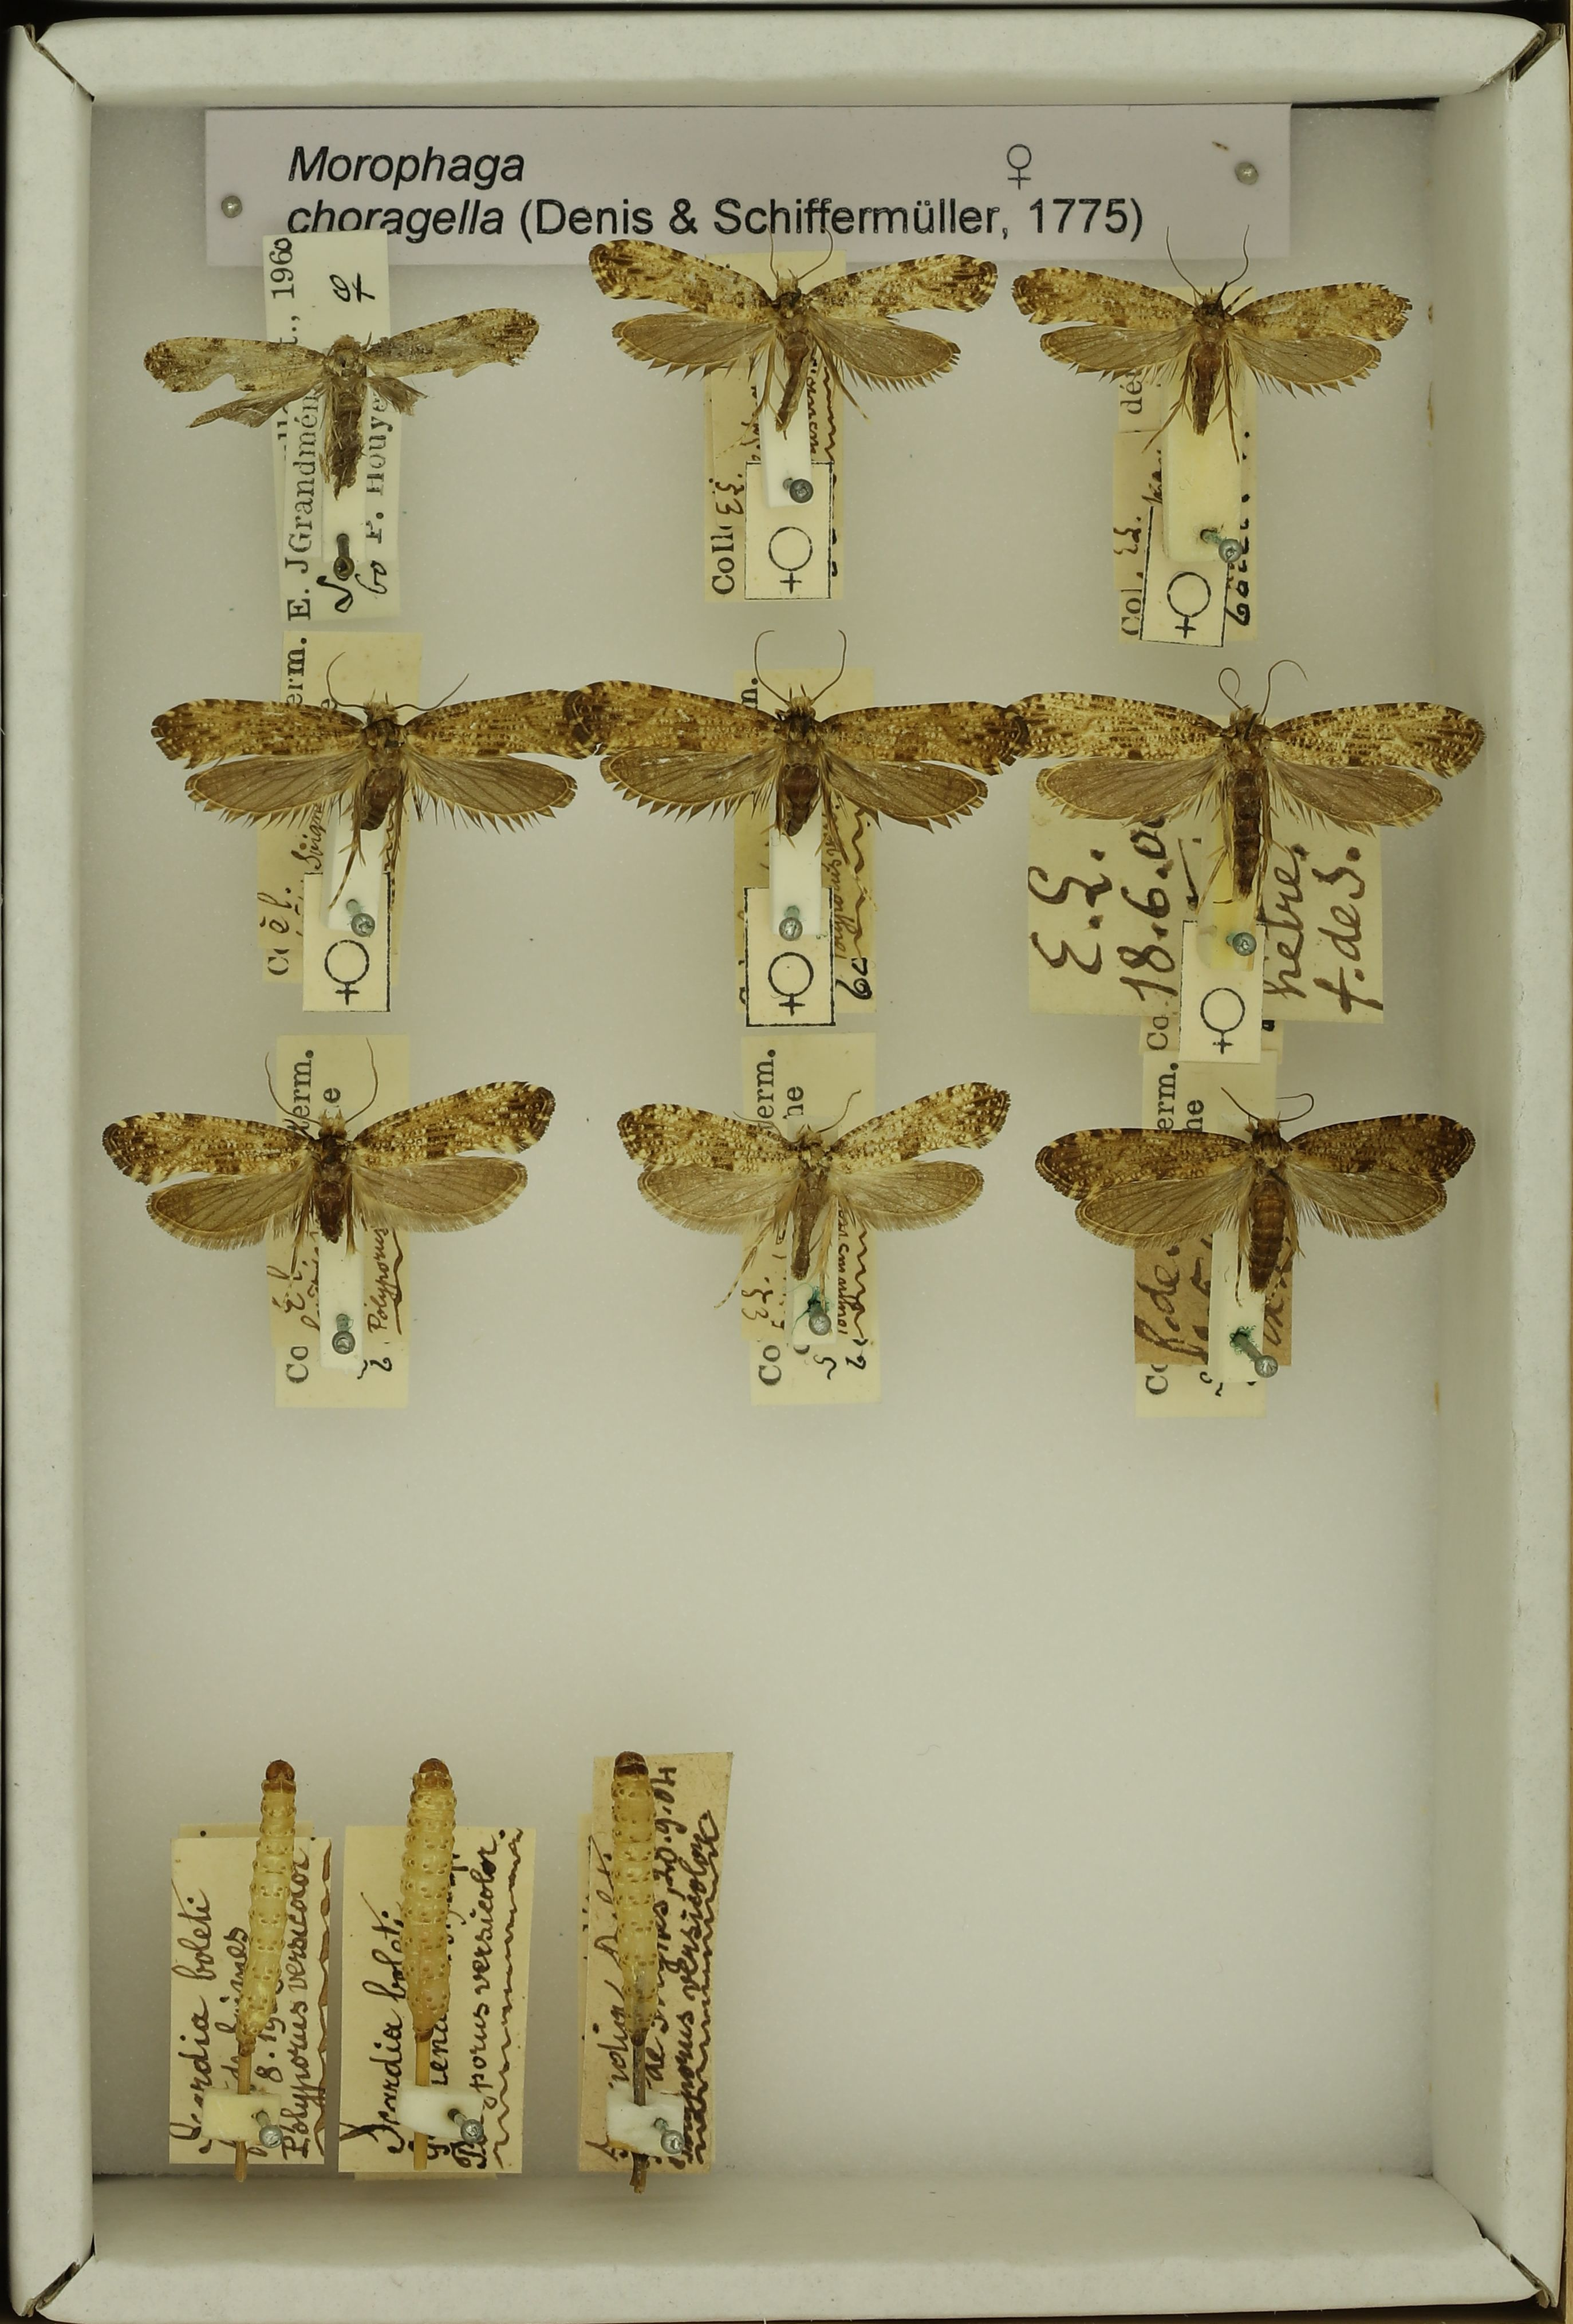insect: (1009, 653, 1499, 915), (1020, 1083, 1496, 1309), (91, 1043, 572, 1262), (154, 671, 600, 902), (585, 225, 999, 465), (597, 1071, 1020, 1294), (581, 651, 1038, 853), (142, 290, 549, 488), (1013, 246, 1420, 441), (384, 1734, 472, 2048), (225, 1729, 300, 2062), (593, 1732, 664, 2043)
